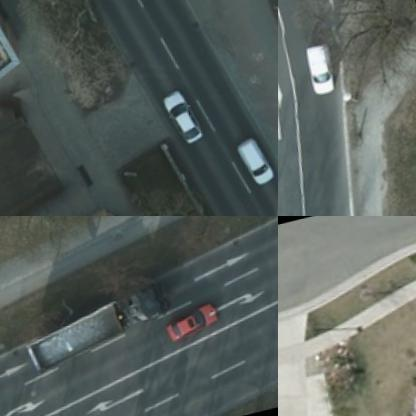car: (160, 94, 204, 158), (230, 139, 276, 200), (300, 46, 338, 108), (161, 312, 216, 352)
